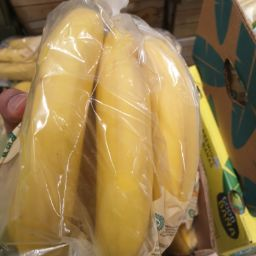Bannana: (35, 4, 202, 256), (14, 4, 220, 193), (31, 9, 148, 250), (10, 91, 143, 255)
